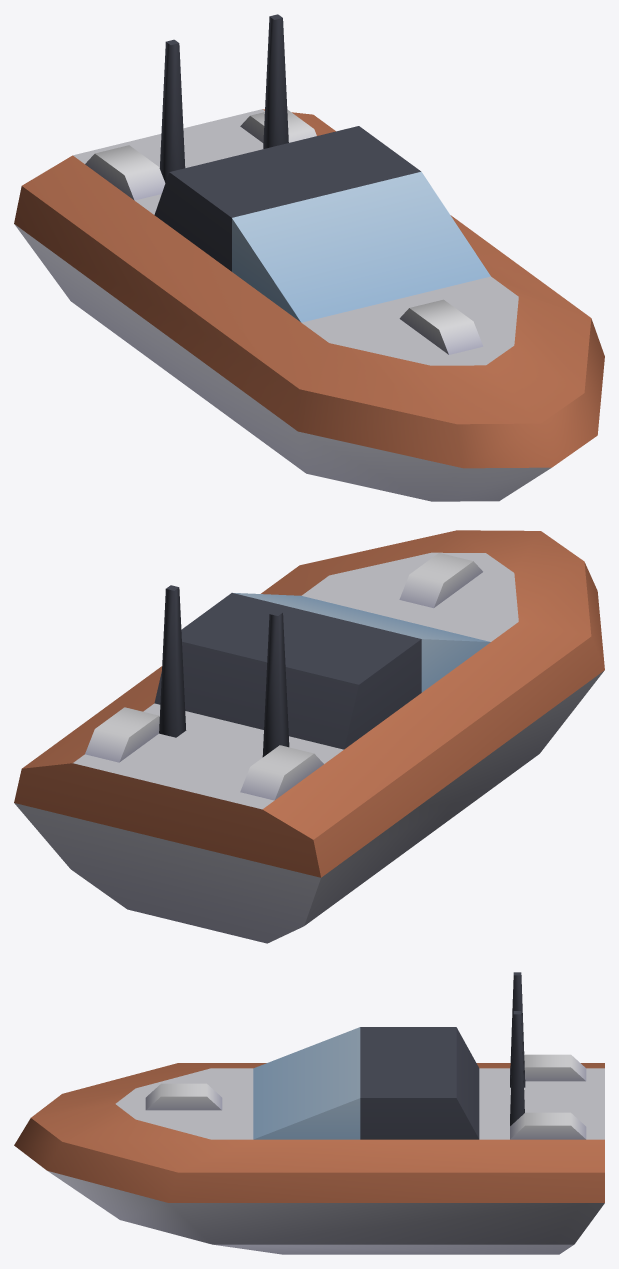
File: boat-speed-i.glb
The picture shows the model from 3 angles, top to bottom: view 1: azimuth 30°, elevation 25°; view 2: azimuth 150°, elevation 25°; view 3: azimuth 270°, elevation 25°; orthographic projection. The views are drawn at different scales.
Visible parts, largest first — view 1: boat-speed-i; view 2: boat-speed-i; view 3: boat-speed-i.
Boxes of the visible parts, x1=… form: boat-speed-i: x1=14, y1=14, x2=604, y2=501; boat-speed-i: x1=14, y1=530, x2=604, y2=943; boat-speed-i: x1=14, y1=972, x2=604, y2=1254.
Bounding box in the file's own units: 1.78 × 1.7 × 3.87.
